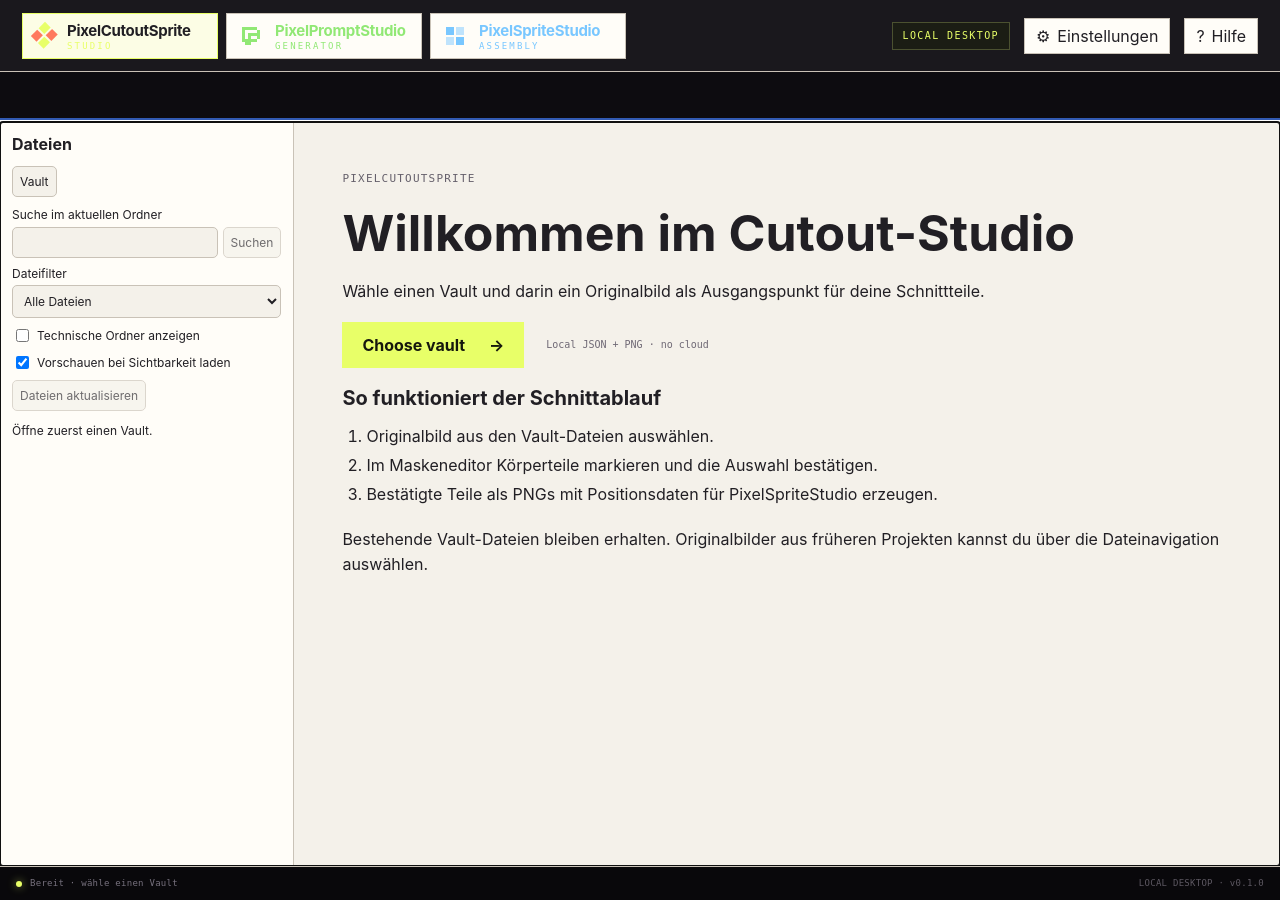
P37 Cutout restart › leaves a read-only vault readable and clearly marked
Click the button "Choose vault →" at (433, 345), box top-left (342, 322), bottom-right (524, 368)
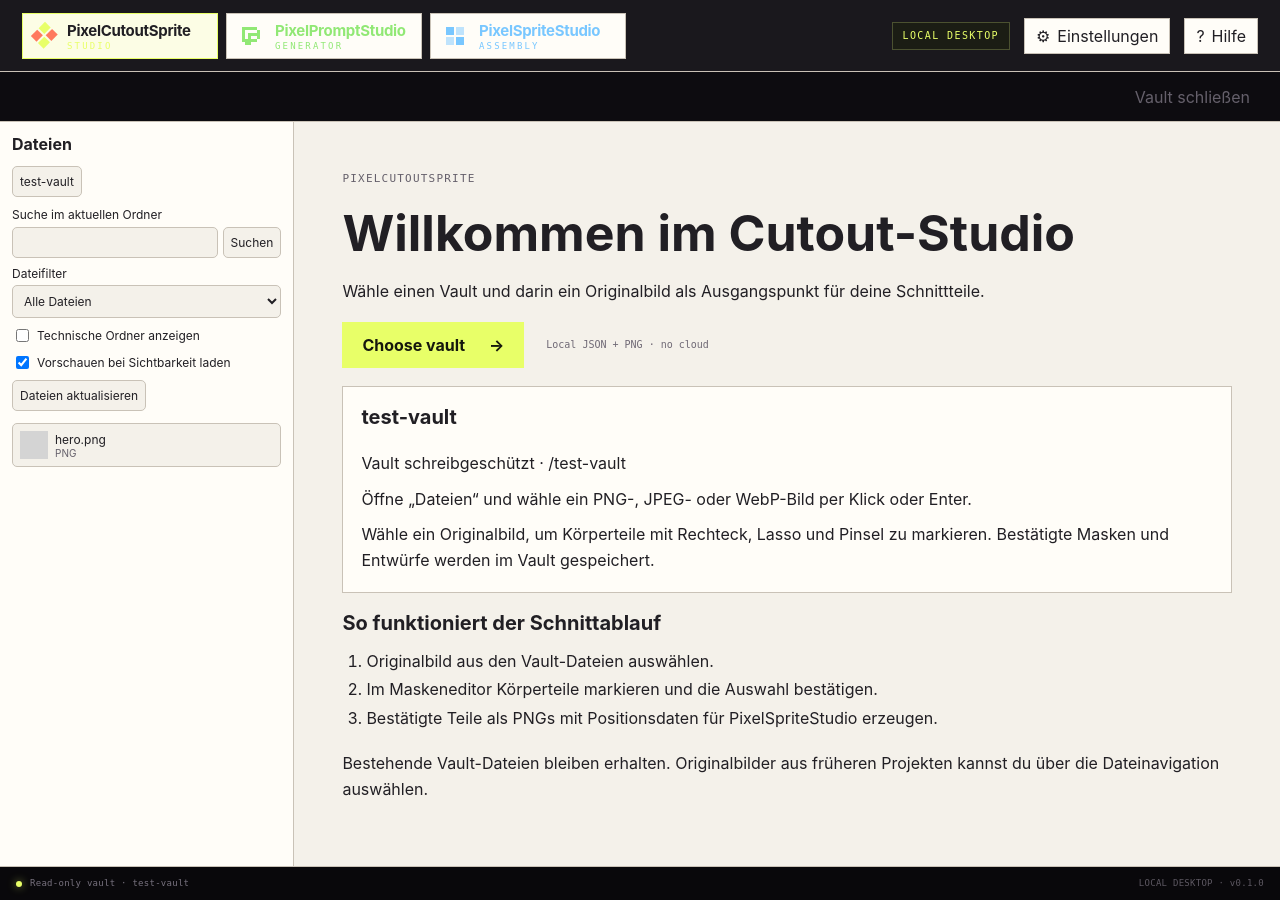
expect the list item "hero.png PNG" is shown: met, box top-left (12, 423), bottom-right (281, 467)
expect the element named "Cutout-Arbeitsbereich" shows "schreibgeschützt": met, box top-left (361, 453), bottom-right (535, 473)
